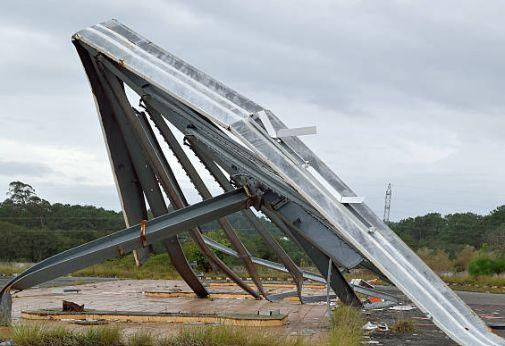metal: (11, 21, 501, 337)
